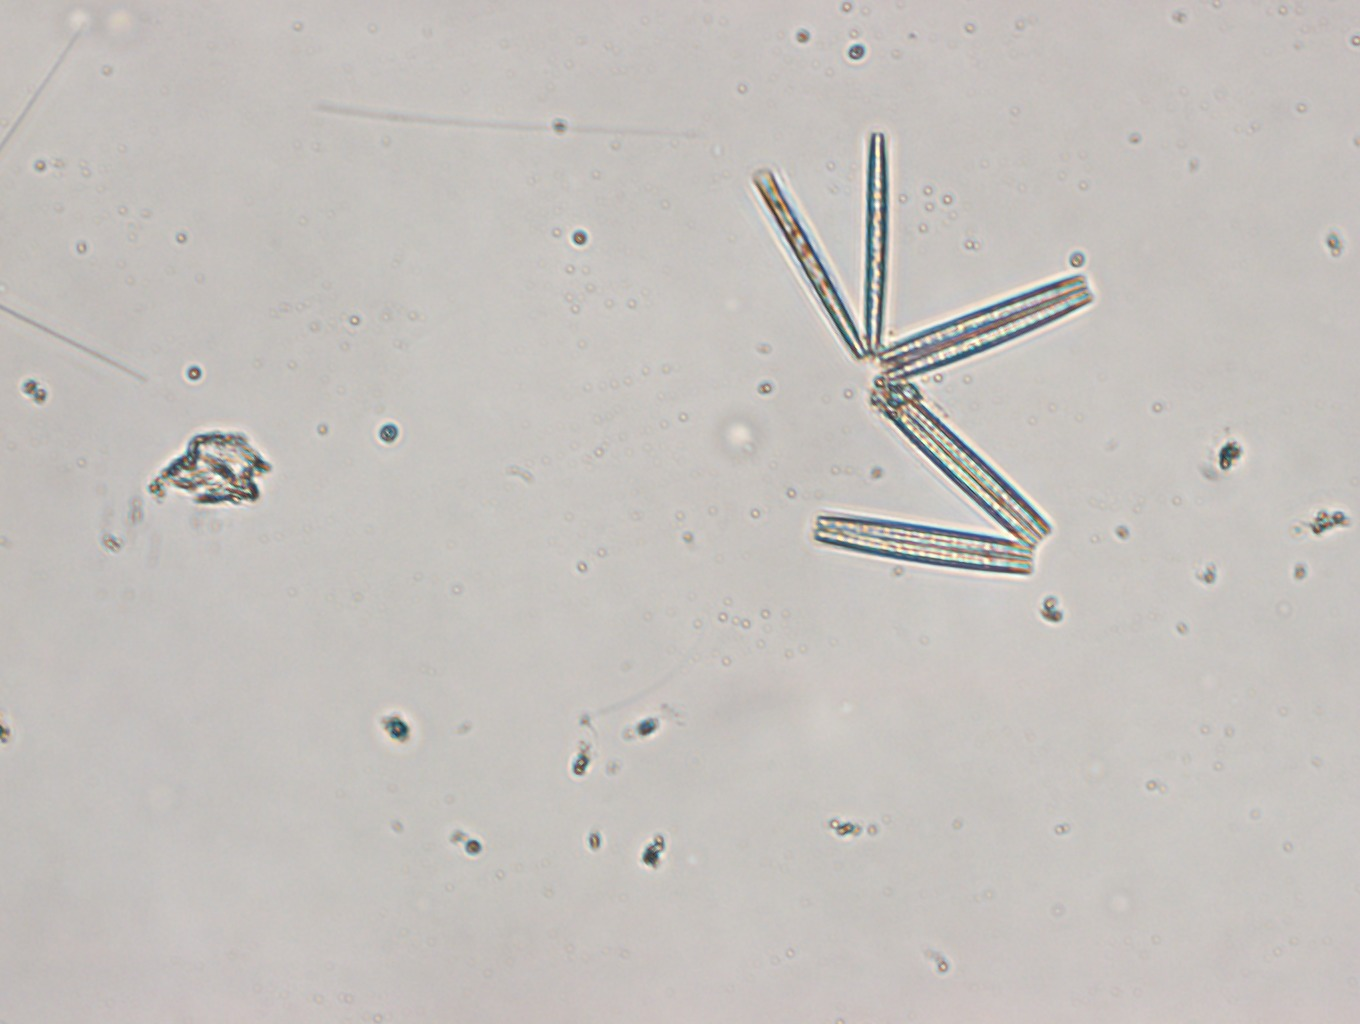thalassionema nitzschioides: (751, 133, 1096, 579)
